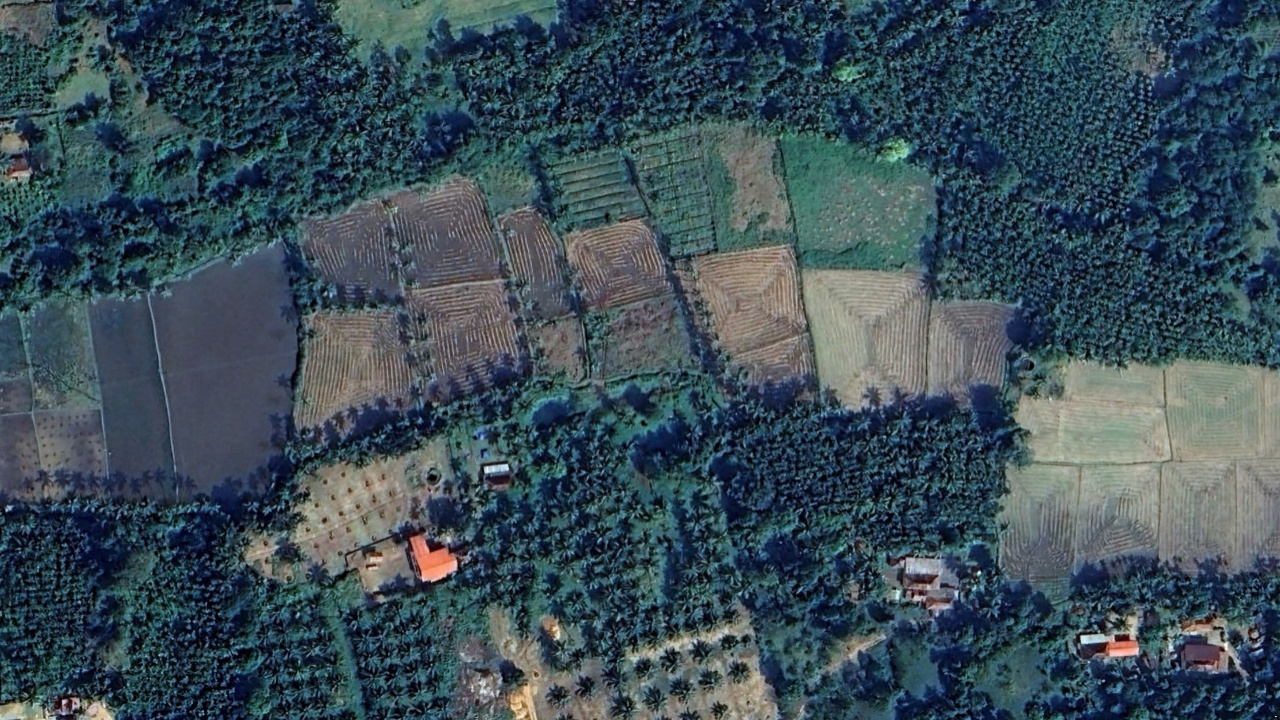arecanut: (975, 187, 1280, 369), (969, 1, 1184, 221), (758, 401, 1004, 550), (128, 544, 239, 716), (5, 525, 116, 690)
